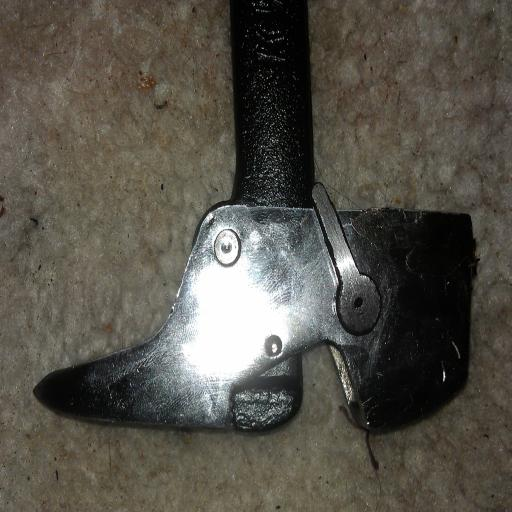Axe: (30, 0, 477, 458)
